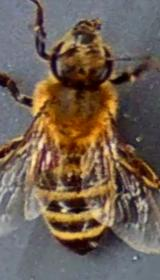varroa_mite: (32, 147, 61, 172)
